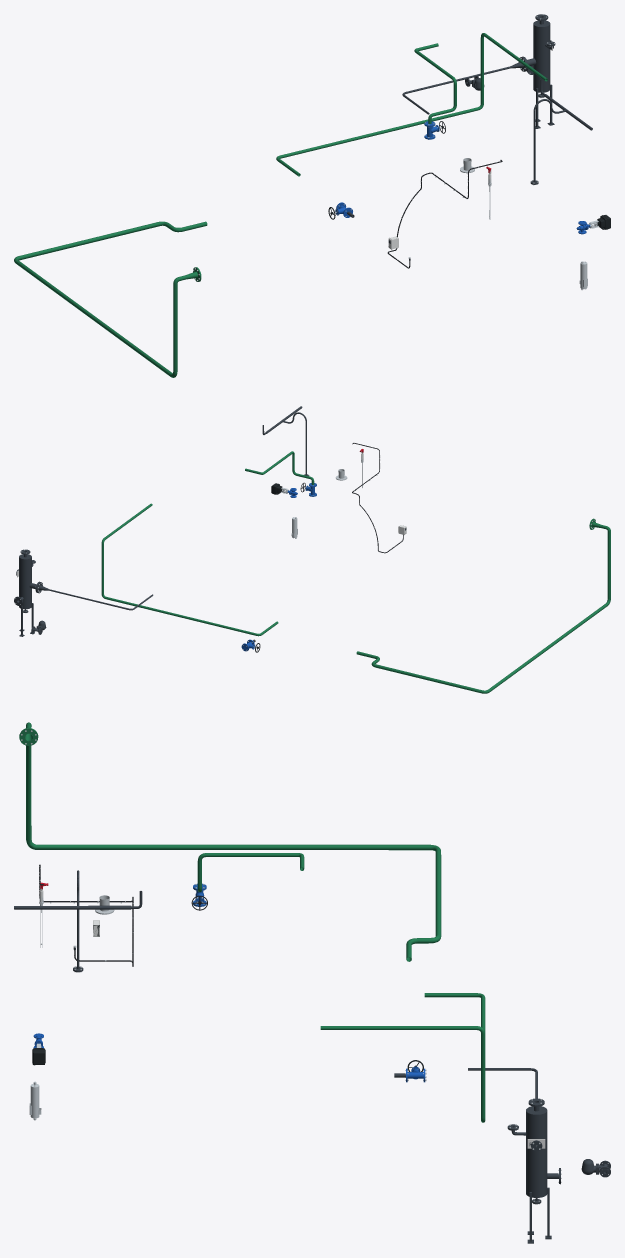
The picture shows the model from 3 angles, top to bottom: view 1: azimuth 30°, elevation 25°; view 2: azimuth 150°, elevation 25°; view 3: azimuth 270°, elevation 25°; orthographic projection. The views are drawn at different scales.
Visible parts, largest first — view 1: deaerator_feed / green, separator_fv8 / dark, to_economizer / green, pressure_header / dark; view 2: deaerator_feed / green, separator_fv8 / dark, to_economizer / green; view 3: deaerator_feed / green, separator_fv8 / dark, to_economizer / green, pressure_header / dark.
Boxes of the visible parts, bbox=[...] form: deaerator_feed / green: bbox=[14, 221, 207, 377]; separator_fv8 / dark: bbox=[522, 14, 555, 128]; to_economizer / green: bbox=[276, 33, 547, 176]; pressure_header / dark: bbox=[530, 79, 592, 184]; deaerator_feed / green: bbox=[356, 518, 610, 693]; separator_fv8 / dark: bbox=[14, 549, 39, 636]; to_economizer / green: bbox=[101, 503, 278, 636]; deaerator_feed / green: bbox=[19, 722, 441, 961]; separator_fv8 / dark: bbox=[507, 1098, 560, 1243]; to_economizer / green: bbox=[320, 993, 485, 1122]; pressure_header / dark: bbox=[14, 870, 142, 972].
Bounding box in the file's own units: 8.64 × 2.87 × 6.08.
